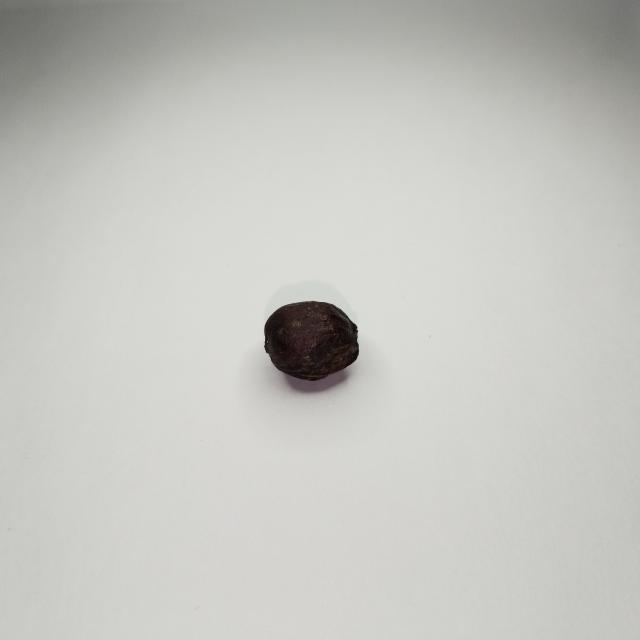Danado: (265, 301, 357, 381)
